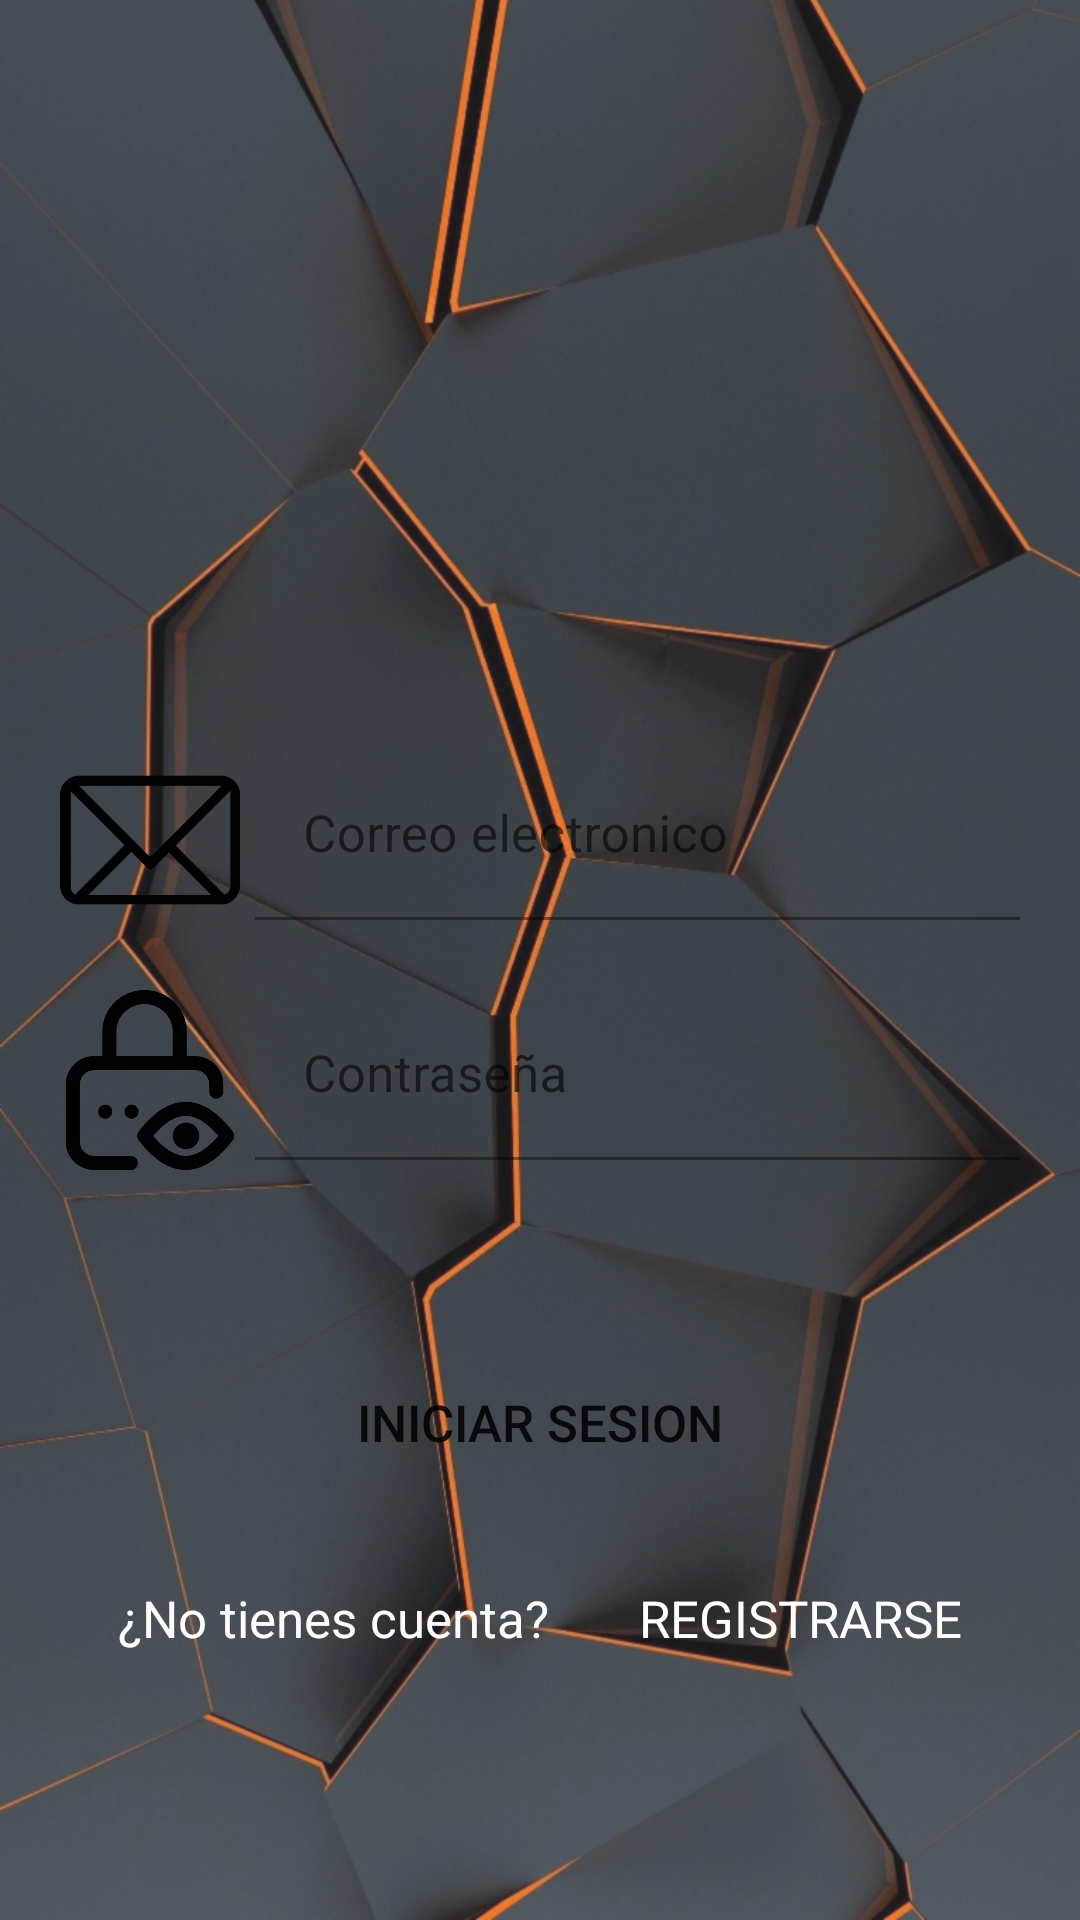

Named icons in this screenshot (1080px x 1920px) and their bounding boxes, (x1, y1, x2, y2):
coreoelec: (60, 750, 240, 930)
password: (60, 990, 240, 1170)
